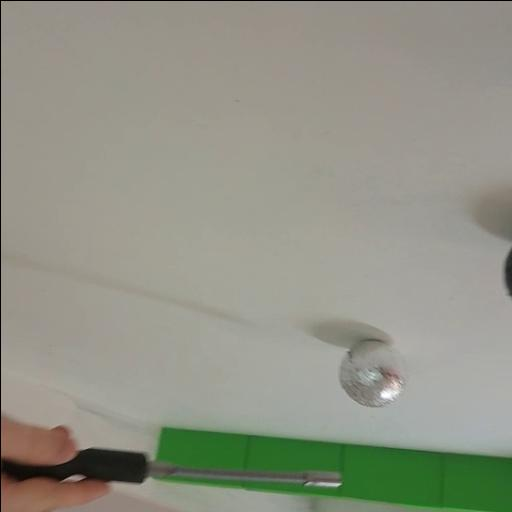alive: (336, 337, 410, 409)
